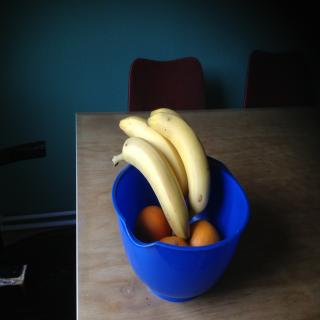Banana: (111, 136, 189, 242), (147, 112, 209, 218), (119, 114, 188, 198), (149, 107, 179, 114)
